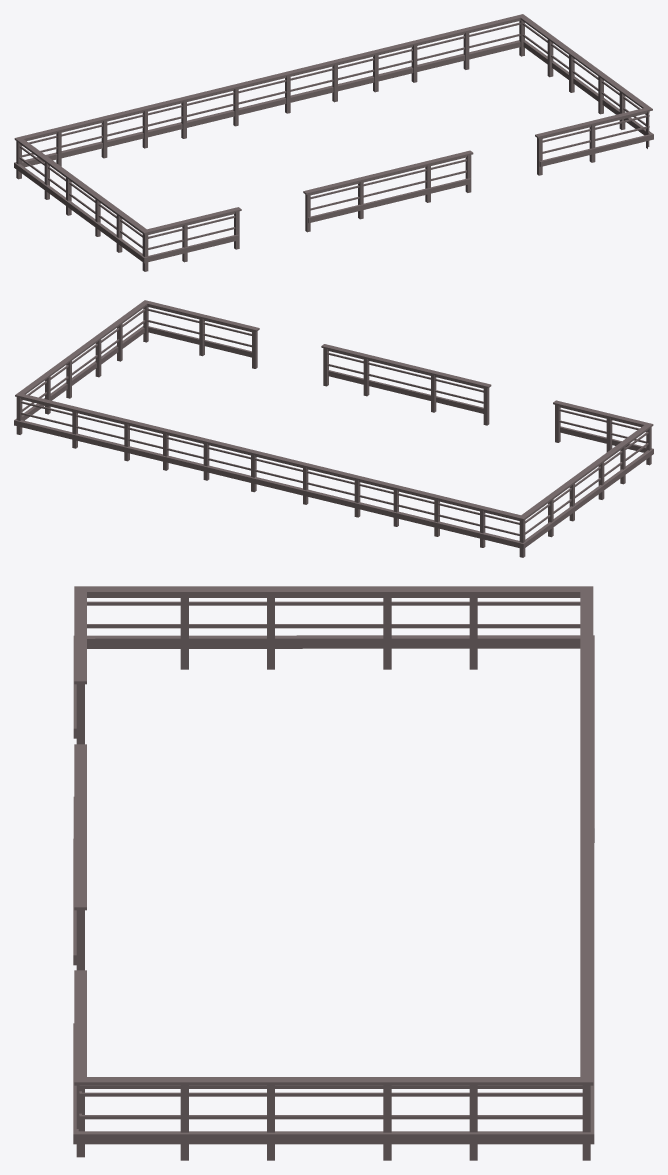
The model's file is Testhouse_Foundation_FenceLarge_VAR2.fbx.
3 renders of one model, top to bottom at view 1: azimuth 30°, elevation 25°; view 2: azimuth 150°, elevation 25°; view 3: azimuth 270°, elevation 25°, orthographic. The views are drawn at different scales.
Visible parts, largest first — view 1: Testhouse_Foundation_FenceLarge.002; view 2: Testhouse_Foundation_FenceLarge.002; view 3: Testhouse_Foundation_FenceLarge.002.
Part boxes in pixels (box(x1,y1,x2,y2)): Testhouse_Foundation_FenceLarge.002: box(14, 14, 653, 271); Testhouse_Foundation_FenceLarge.002: box(14, 300, 653, 557); Testhouse_Foundation_FenceLarge.002: box(73, 586, 594, 1160).
Bounding box in the file's own units: 559 × 248 × 41.5.
